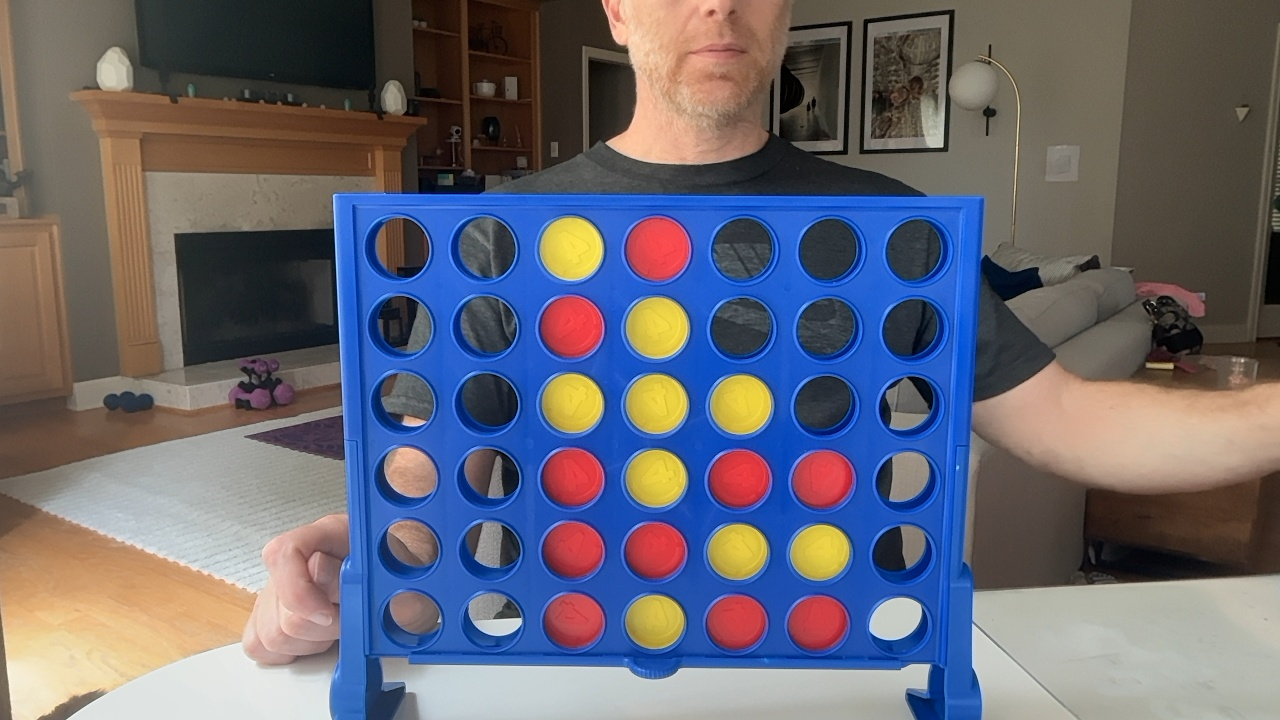red piece: (625, 217, 690, 281), (539, 295, 603, 358), (708, 449, 770, 508), (792, 450, 854, 509), (624, 522, 687, 580), (542, 448, 603, 507), (542, 521, 603, 579), (543, 593, 604, 649), (787, 595, 848, 651), (707, 595, 766, 651)
yellow piece: (539, 217, 603, 280), (625, 297, 689, 359), (625, 374, 688, 434), (709, 374, 772, 434), (541, 373, 603, 433), (625, 449, 687, 507), (790, 524, 851, 581), (624, 594, 685, 650), (707, 524, 768, 579)
